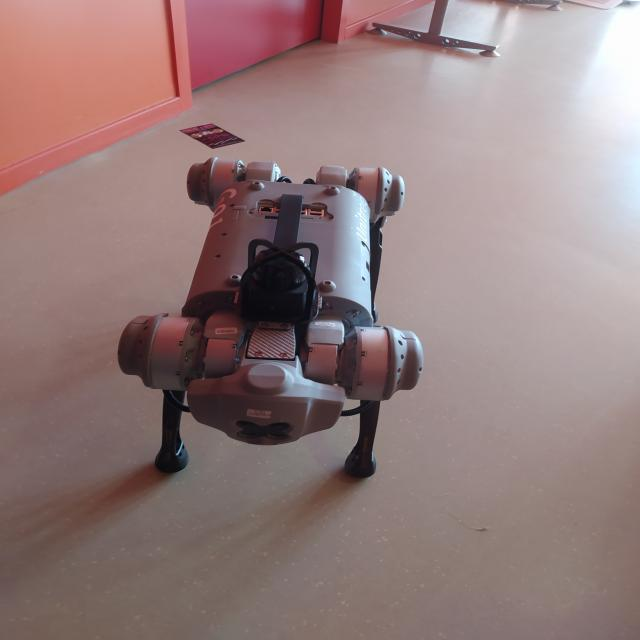unitree-go1-robot: (104, 147, 438, 502)
